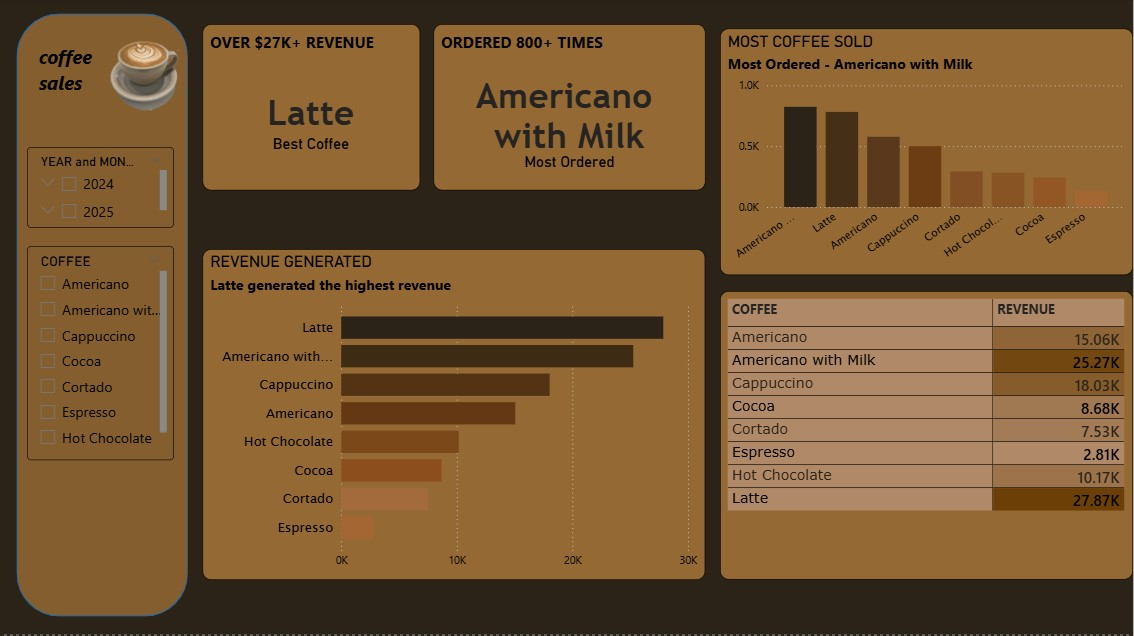

The page's visual inventory and layout, read from the dashboard file:
{"tool":"powerbi","page":{"name":"Product and Revenue Analysis","canvas":[1280,720],"ordinal":1},"visuals":[{"type":"shape","box":[19,19,193.6,681.2],"z":0},{"type":"image","box":[96.8,0,133.1,127.9],"z":1000},{"type":"textbox","box":[38.8,48.1,77.7,79.5],"z":2000},{"type":"card","fields":{"Values":["coffee.Best Coffee by Revenue"]},"box":[229.2,31,245.7,187.9],"z":3000},{"type":"clusteredBarChart","title":"REVENUE GENERATED ","fields":{"Category":["coffee.coffee_name"],"Y":["coffee.Revenue by Coffee"]},"box":[229.2,284.9,567.7,373.7],"z":4000},{"type":"pivotTable","fields":{"Rows":["coffee.coffee_name"],"Values":["coffee.Revenue by Coffee"]},"box":[813.4,332.4,466.6,326.2],"z":5000},{"type":"columnChart","title":"MOST COFFEE SOLD","fields":{"Category":["coffee.coffee_name"],"Y":["coffee.Total Orders"]},"box":[813.4,35.1,466.6,278.7],"z":6000},{"type":"card","fields":{"Values":["coffee.Top Coffee by Orders"]},"box":[489.3,31,307.6,187.9],"z":7000},{"type":"slicer","fields":{"Values":["coffee.coffee_name"]},"box":[31.1,281.8,166,242.1],"z":8000},{"type":"slicer","fields":{"Values":["coffee.year","coffee.month"]},"box":[31.1,169.4,166,91.6],"z":9000}]}

Visuals, with their boxes in screenshot pixels (x1, y1, x2, y2), scaled from the page's 1280x720 canvas onto the 1134x636 screenshot:
shape: {"x1": 17, "y1": 17, "x2": 188, "y2": 619}
image: {"x1": 86, "y1": 0, "x2": 204, "y2": 113}
textbox: {"x1": 34, "y1": 42, "x2": 103, "y2": 113}
card - coffee.Best Coffee by Revenue: {"x1": 203, "y1": 27, "x2": 421, "y2": 193}
"REVENUE GENERATED " clusteredBarChart: {"x1": 203, "y1": 252, "x2": 706, "y2": 582}
pivotTable - coffee.coffee_name x coffee.Revenue by Coffee: {"x1": 721, "y1": 294, "x2": 1133, "y2": 582}
"MOST COFFEE SOLD" columnChart: {"x1": 721, "y1": 31, "x2": 1133, "y2": 277}
card - coffee.Top Coffee by Orders: {"x1": 433, "y1": 27, "x2": 706, "y2": 193}
slicer - coffee.coffee_name: {"x1": 28, "y1": 249, "x2": 175, "y2": 463}
slicer - coffee.year x coffee.month: {"x1": 28, "y1": 150, "x2": 175, "y2": 231}
